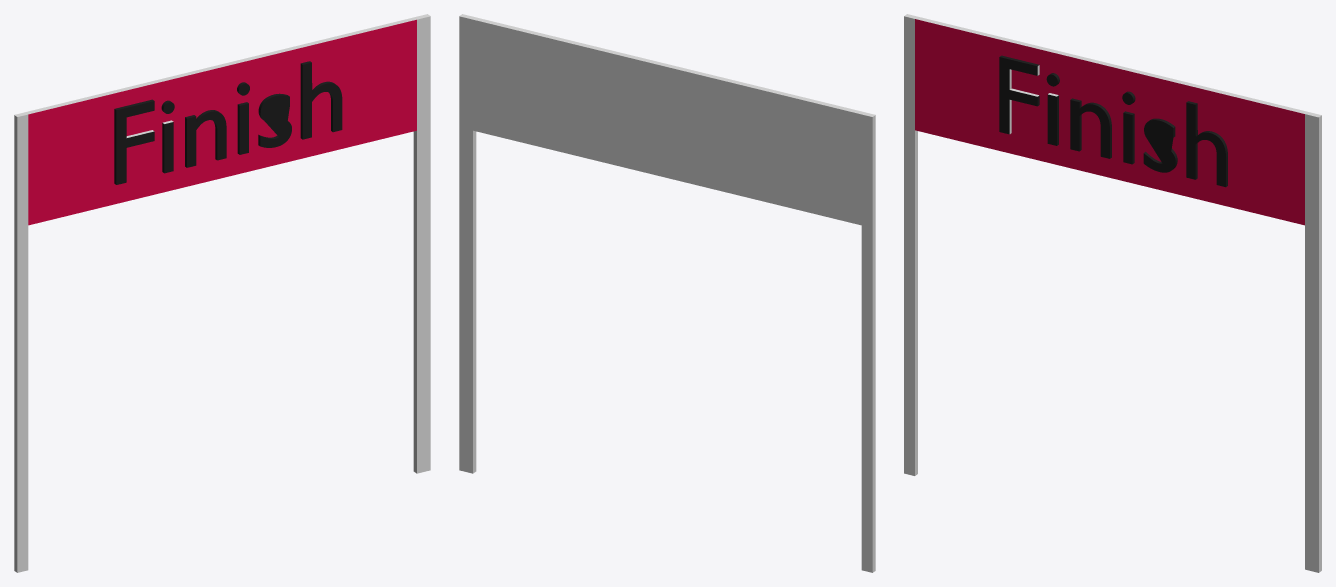
Rendered from FinishLine.fbx.
3 renders of one model, left to right at view 1: azimuth 30°, elevation 25°; view 2: azimuth 150°, elevation 25°; view 3: azimuth 330°, elevation 25°, orthographic.
Visible parts, largest first — view 1: Cube; view 2: Cube; view 3: Cube.
Boxes of the visible parts, x1=… form: Cube: x1=14, y1=14, x2=430, y2=572; Cube: x1=459, y1=14, x2=875, y2=572; Cube: x1=904, y1=14, x2=1321, y2=572.
Size of the model in its own units: 1488 by 1567 by 32.03.
